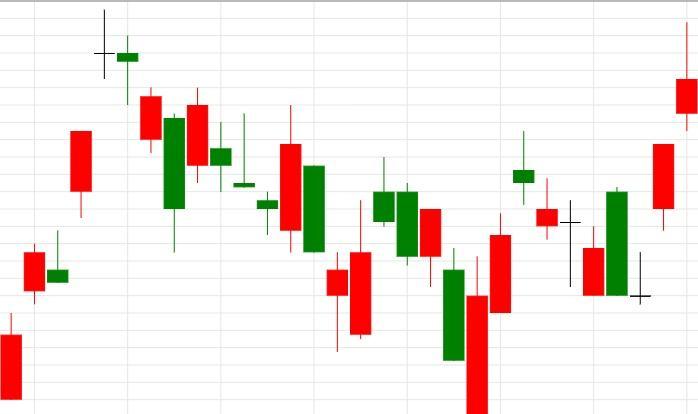bullish_engulfing_rise: (94, 10, 302, 253)
